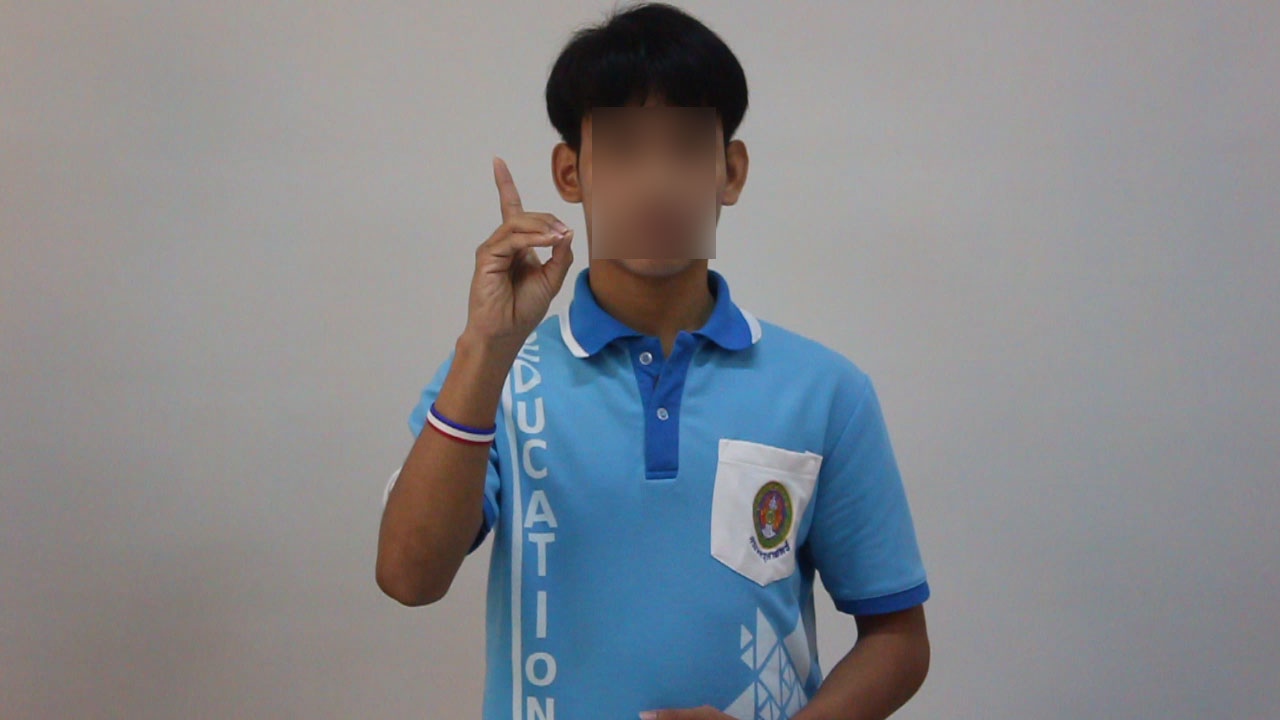dor: (449, 149, 577, 342)
